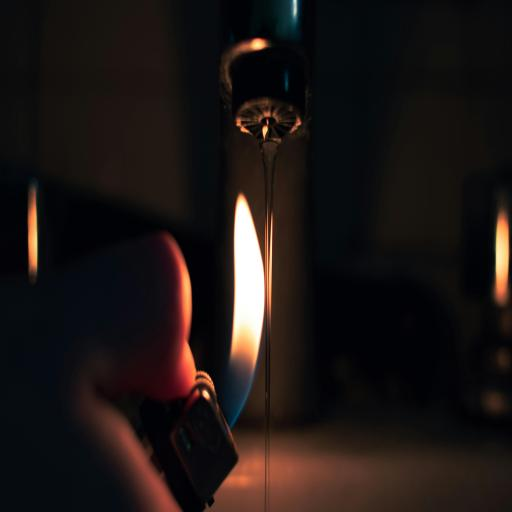fire: (210, 184, 274, 418)
lighter: (125, 323, 306, 512)
